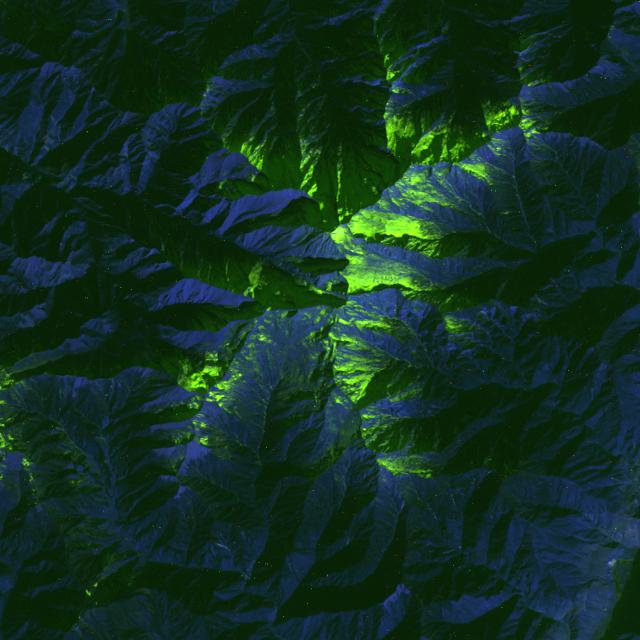landslides: (479, 156, 515, 179), (387, 366, 412, 395), (279, 343, 295, 379), (507, 608, 528, 624), (544, 559, 581, 567), (396, 500, 406, 524), (10, 385, 24, 402), (517, 43, 532, 56), (286, 557, 296, 576), (610, 477, 635, 484), (214, 542, 231, 552), (592, 399, 610, 408), (494, 429, 504, 444), (436, 549, 456, 556), (547, 83, 557, 97), (501, 211, 525, 216), (20, 379, 30, 391), (484, 235, 493, 248), (450, 490, 456, 508), (334, 473, 346, 482)
